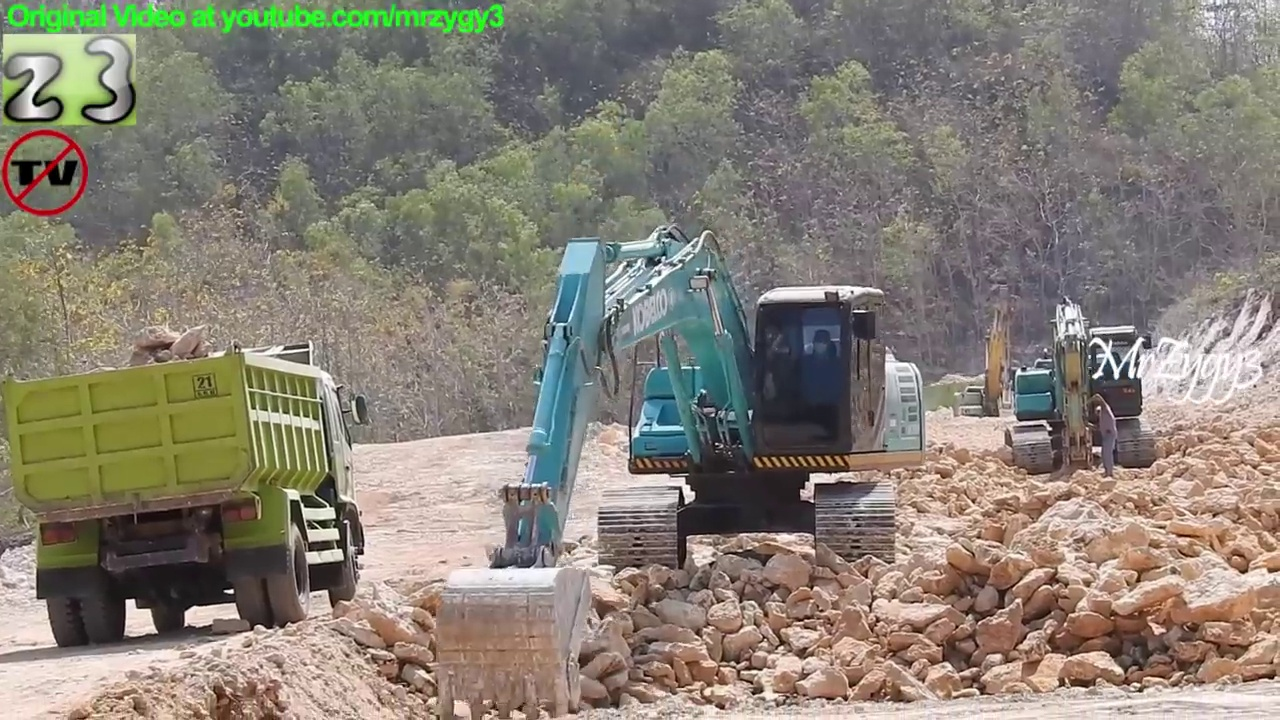excavator: (427, 214, 935, 720), (946, 276, 1051, 433)
excavator breaker: (999, 288, 1164, 498)
truck: (1, 332, 377, 654)
worker: (1081, 386, 1129, 482)
